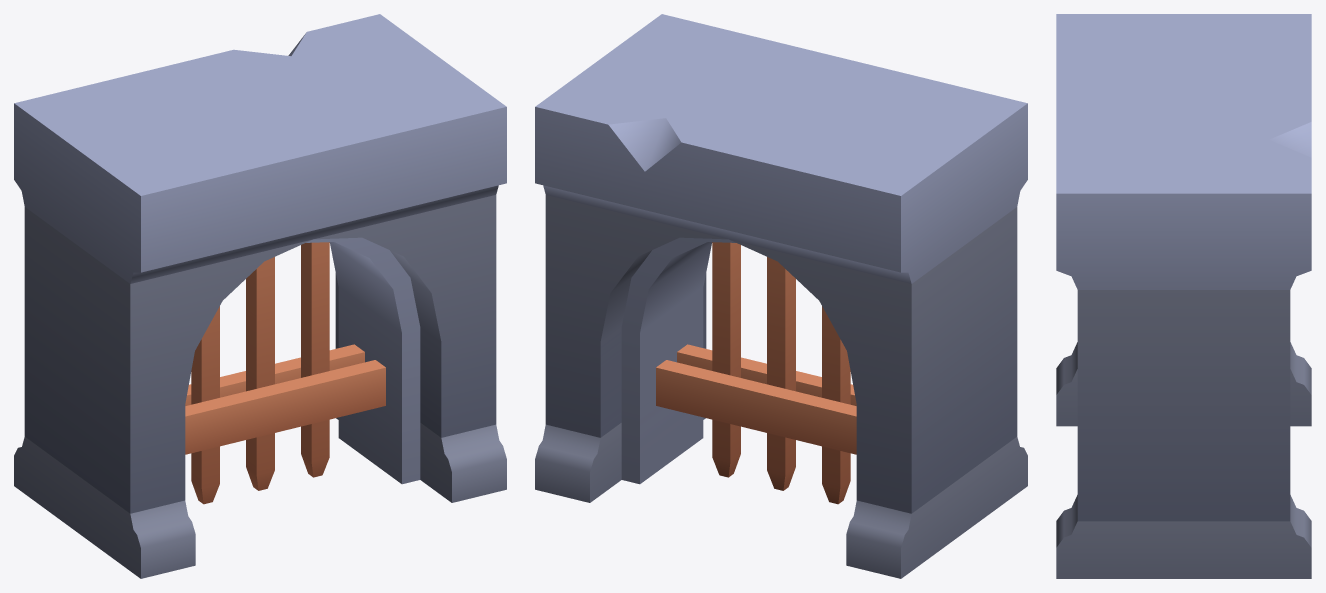
The model's file is wall-gate.glb.
The picture shows the model from 3 angles, left to right: view 1: azimuth 30°, elevation 25°; view 2: azimuth 150°, elevation 25°; view 3: azimuth 270°, elevation 25°; orthographic projection.
Visible parts, largest first — view 1: wall-gate, gate; view 2: wall-gate, gate; view 3: wall-gate.
Part boxes in pixels (<box>): wall-gate: <box>14,14,506,578</box>; gate: <box>185,242,385,504</box>; wall-gate: <box>535,14,1027,578</box>; gate: <box>656,242,856,504</box>; wall-gate: <box>1056,14,1311,578</box>.
Size of the model in its own units: 1 by 1 by 0.6.
1 material, 1 textured.
